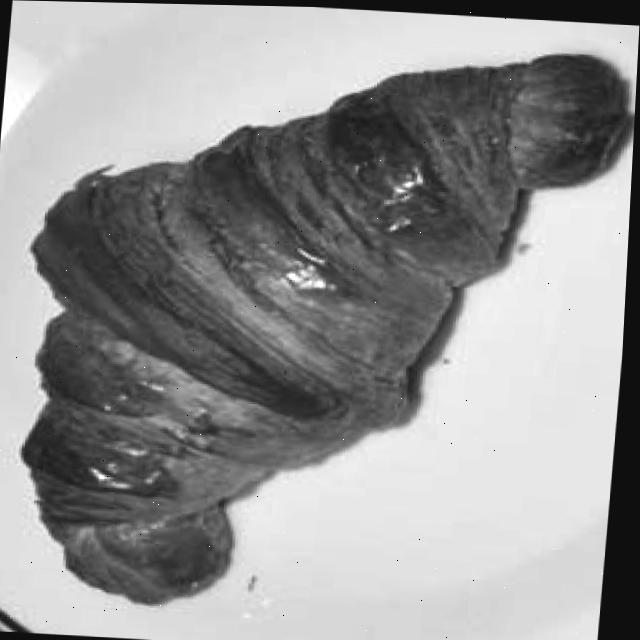面包点心: (2, 22, 639, 617)
